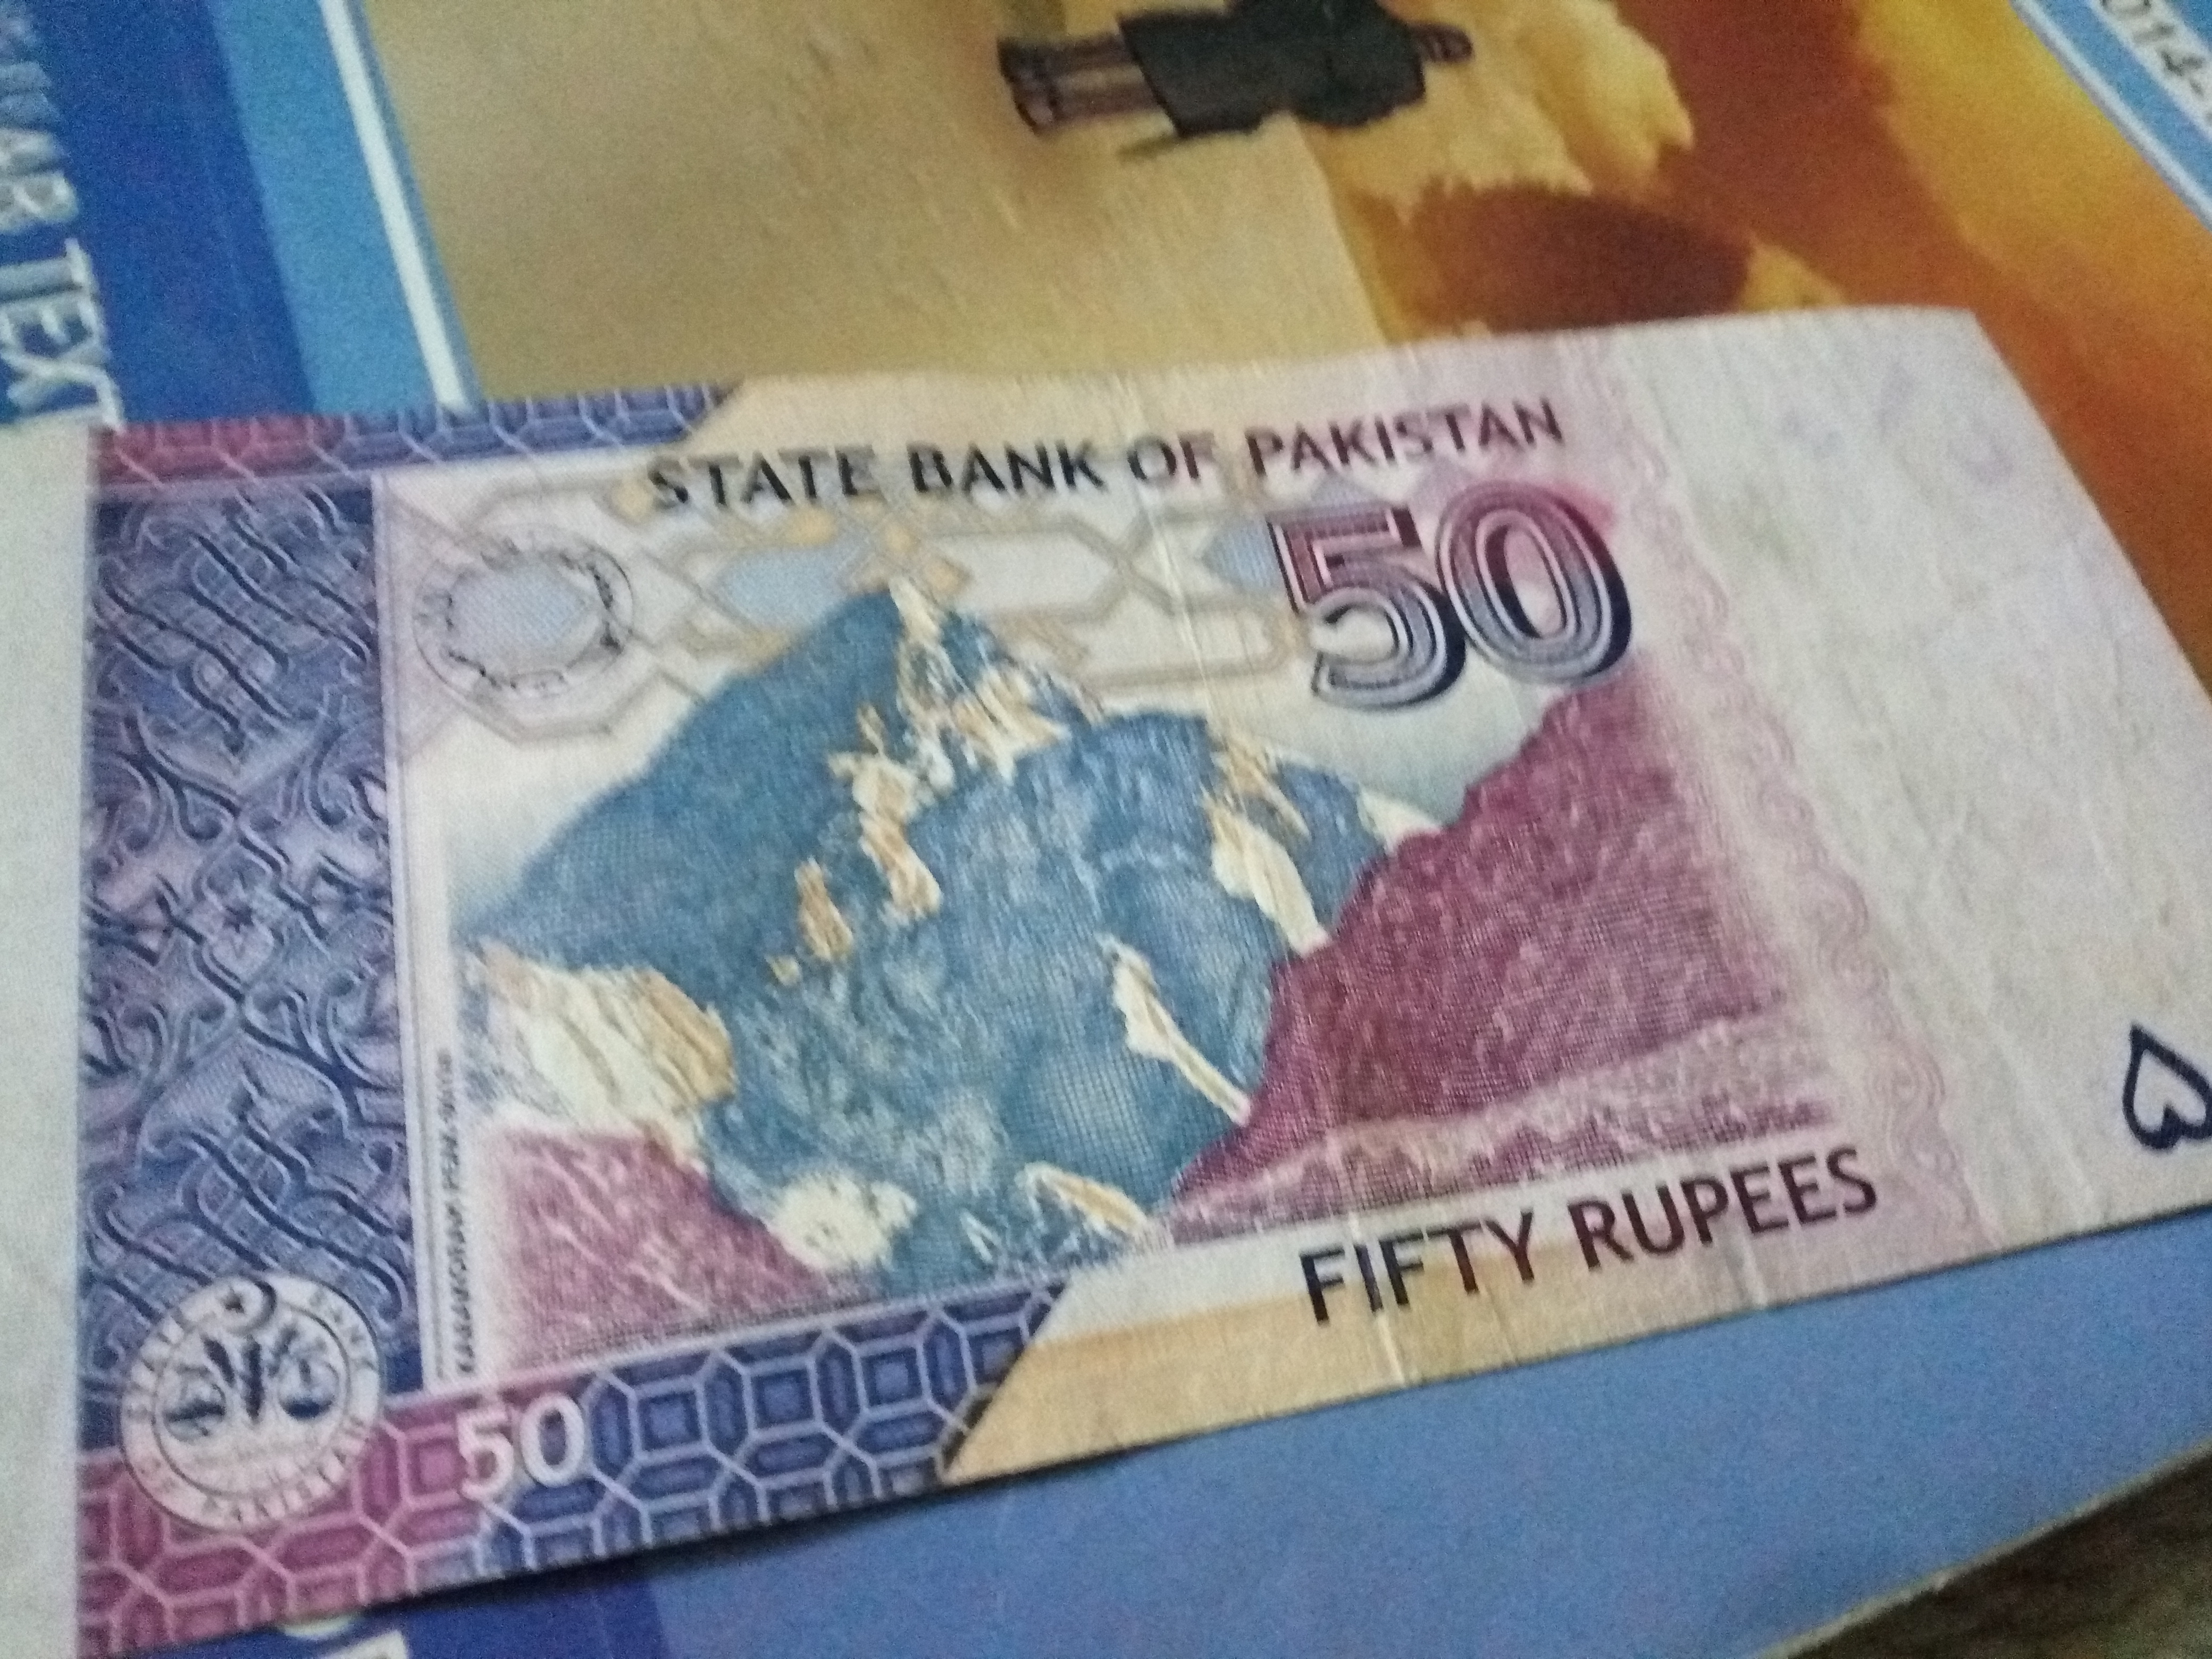50 rupee: (68, 258, 2212, 1605)
